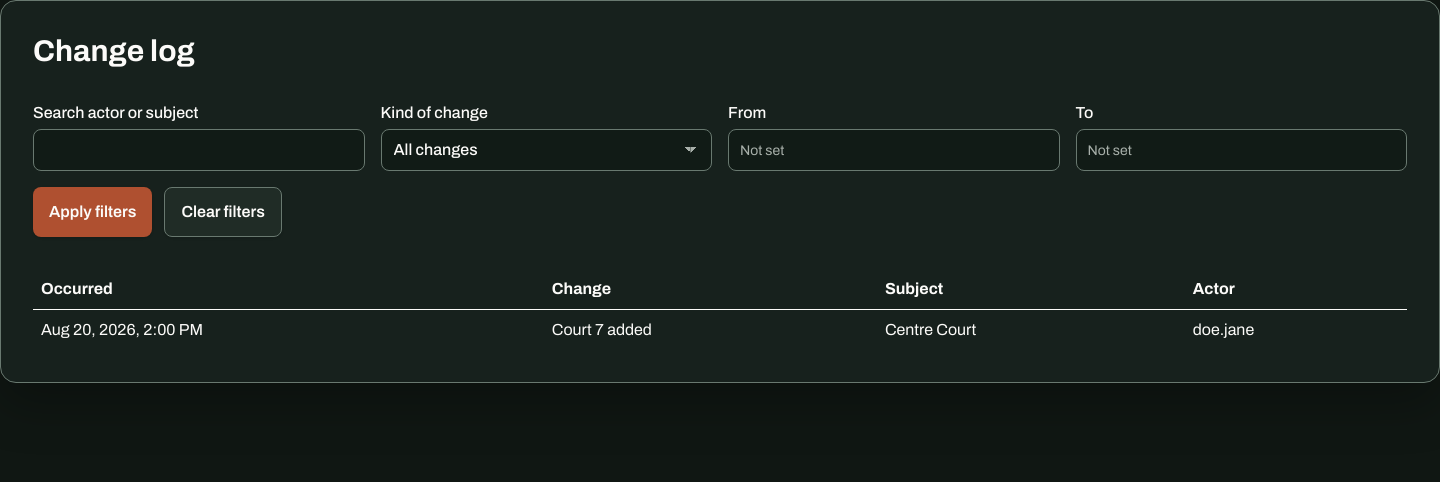
Scenario: AdminAuditView › given the filtered search is refused, when applying it, then the failure is shown and the existing page remains
Expected: the row with test id "audit-row" is shown, [33,310,1407,350]
Type "Jane" into the field with test id "audit-filter-query".
click(199, 150); type("Jane")  # box [33,129,364,171]
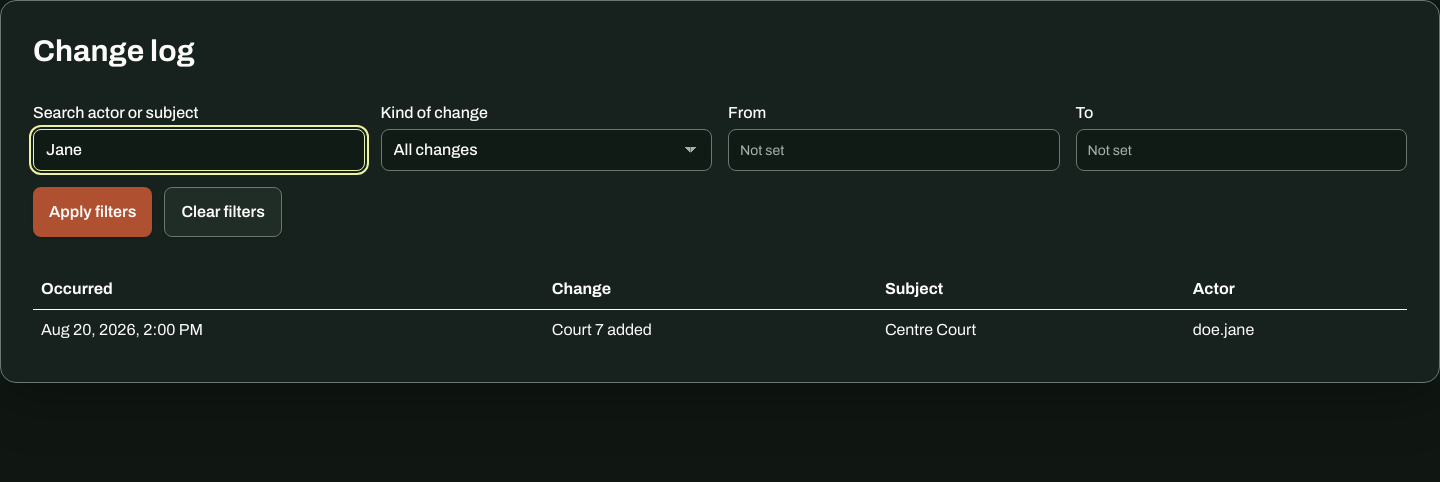
Click the button with test id "audit-filter-apply".
click(93, 212)  # box [33,187,152,237]
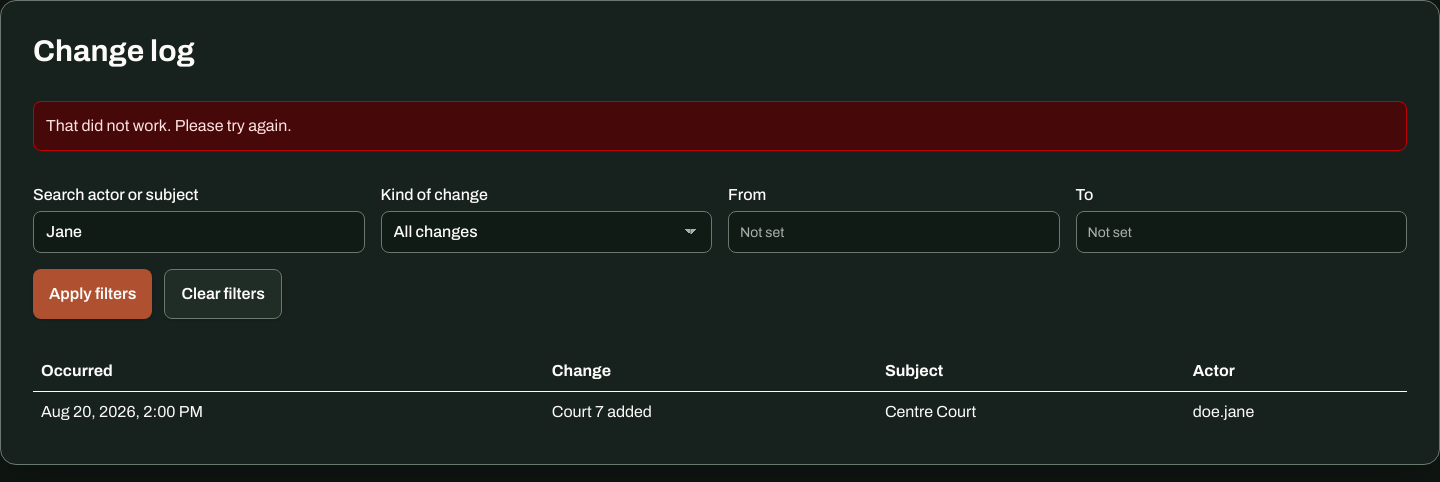
Expected: the row with test id "audit-row" is shown, [33,392,1407,432]
Result: the message reads "That did not work. Please try again." at [46,117,292,134]
